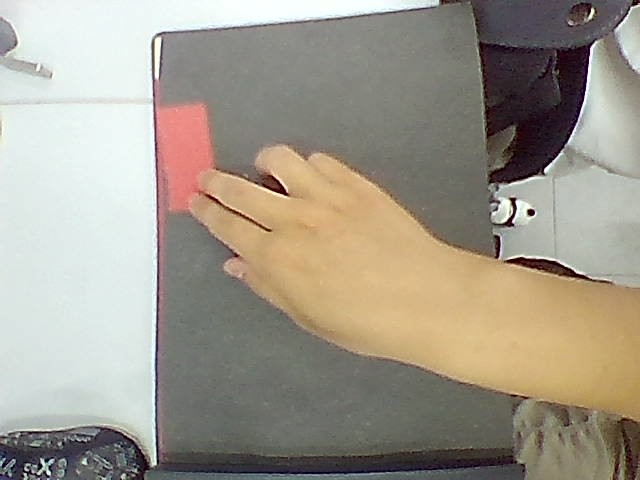card: (157, 103, 213, 212)
